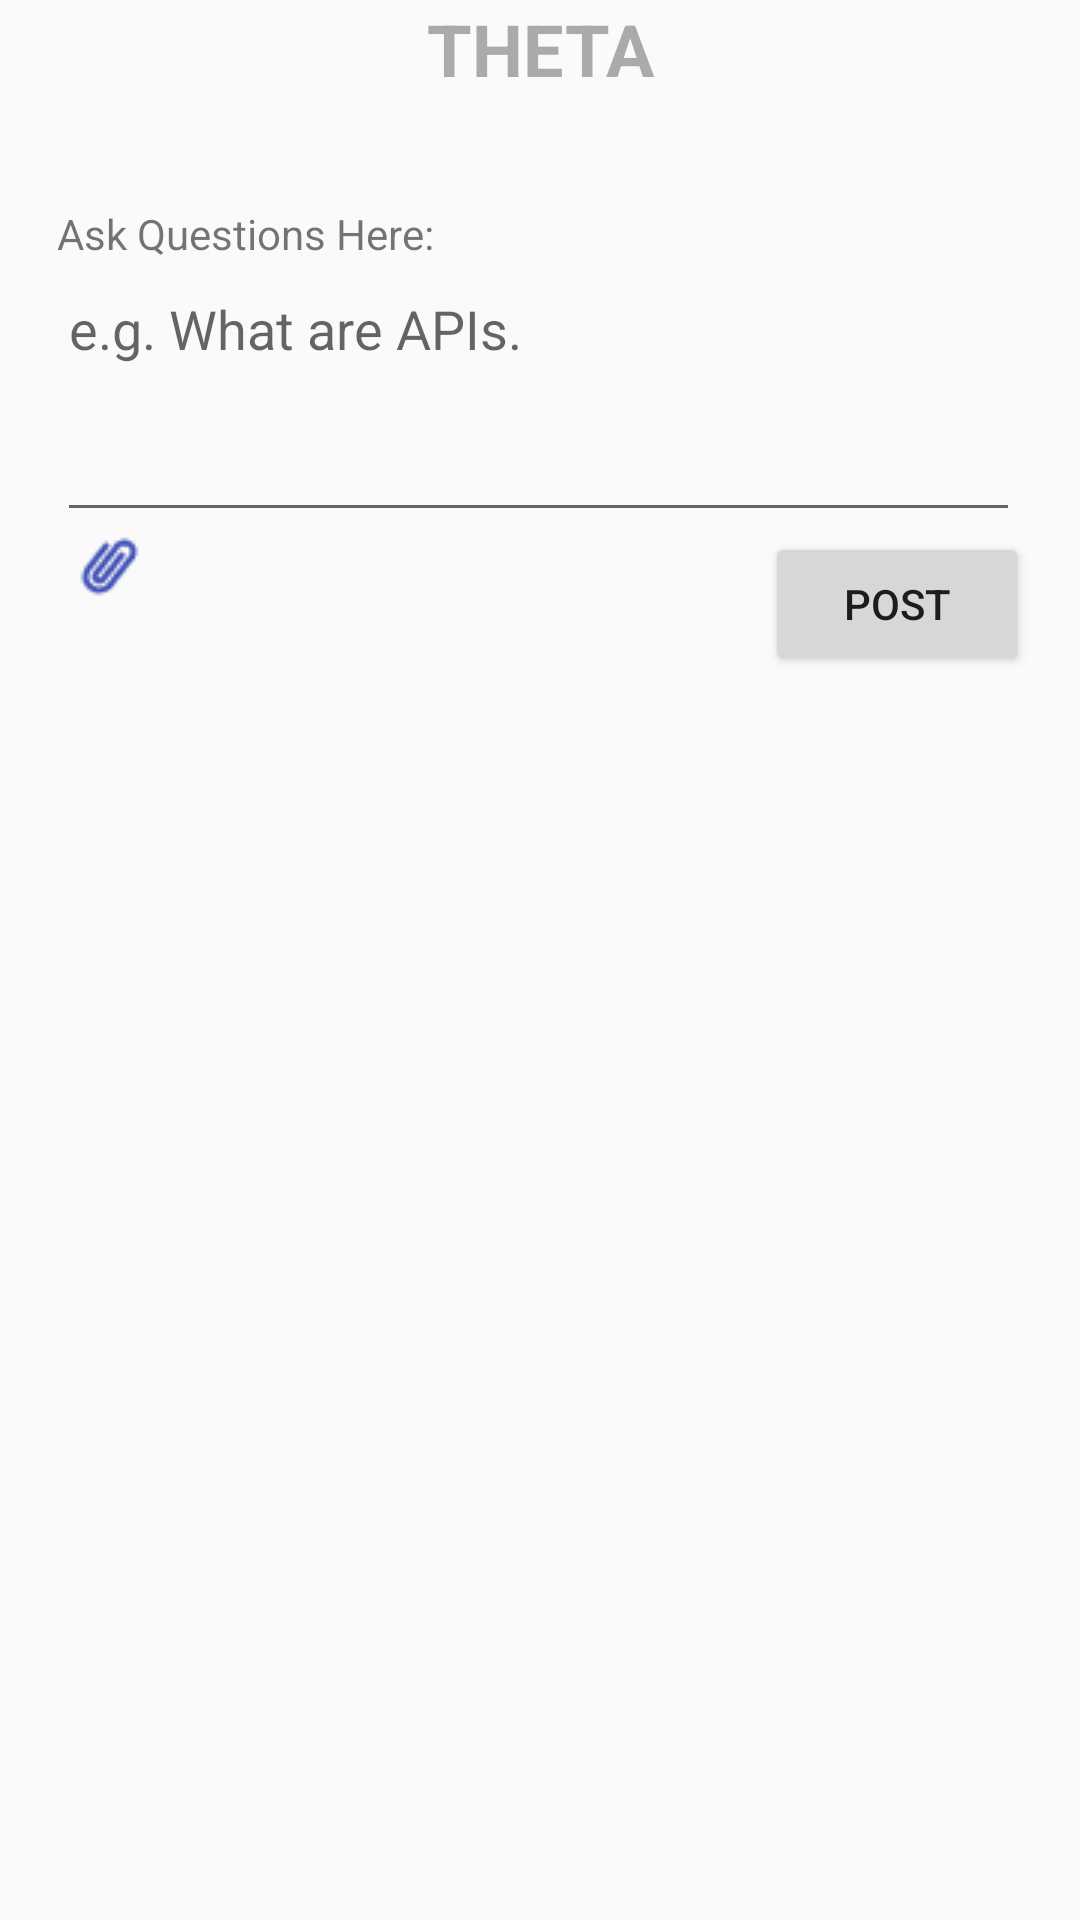

Point at icon controls on the screen. Image size 1080w x 1920h, points as (x,y).
attach: (109,566)
